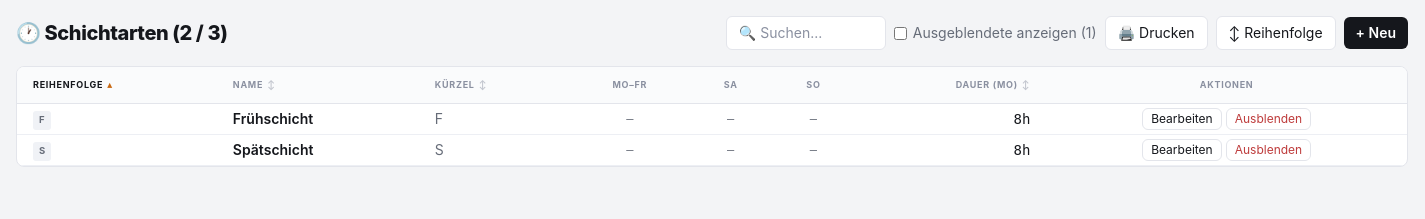
Scenario: Shifts page › Ausgeblendete Schichtarten › blendet ausgeblendete Schichten standardmäßig aus, zeigt sie nach Toggle
Expected: the text "Frühschicht" is shown, 217,104 -> 419,134
Expected: the text "Nachtschicht" is not shown
Toggle ist da (Zähler 1) und aktiviert die ausgeblendete Schicht
Step 1. Click the checkbox labelled "Ausgeblendete anzeigen (1)" → {"x": 900, "y": 33}, box 894,26 -> 907,40
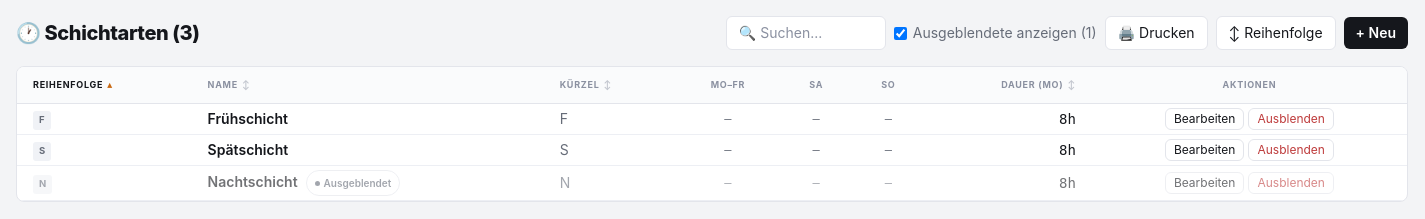
Now the text "Nachtschicht" is shown, box 208,173 -> 298,190
